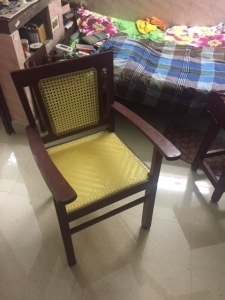chair: (10, 52, 181, 265)
